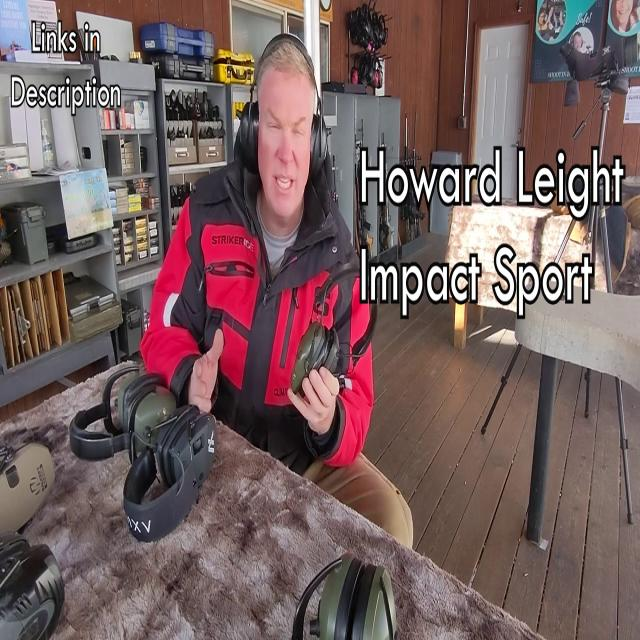earmuff: (234, 96, 262, 167), (308, 108, 334, 177)
